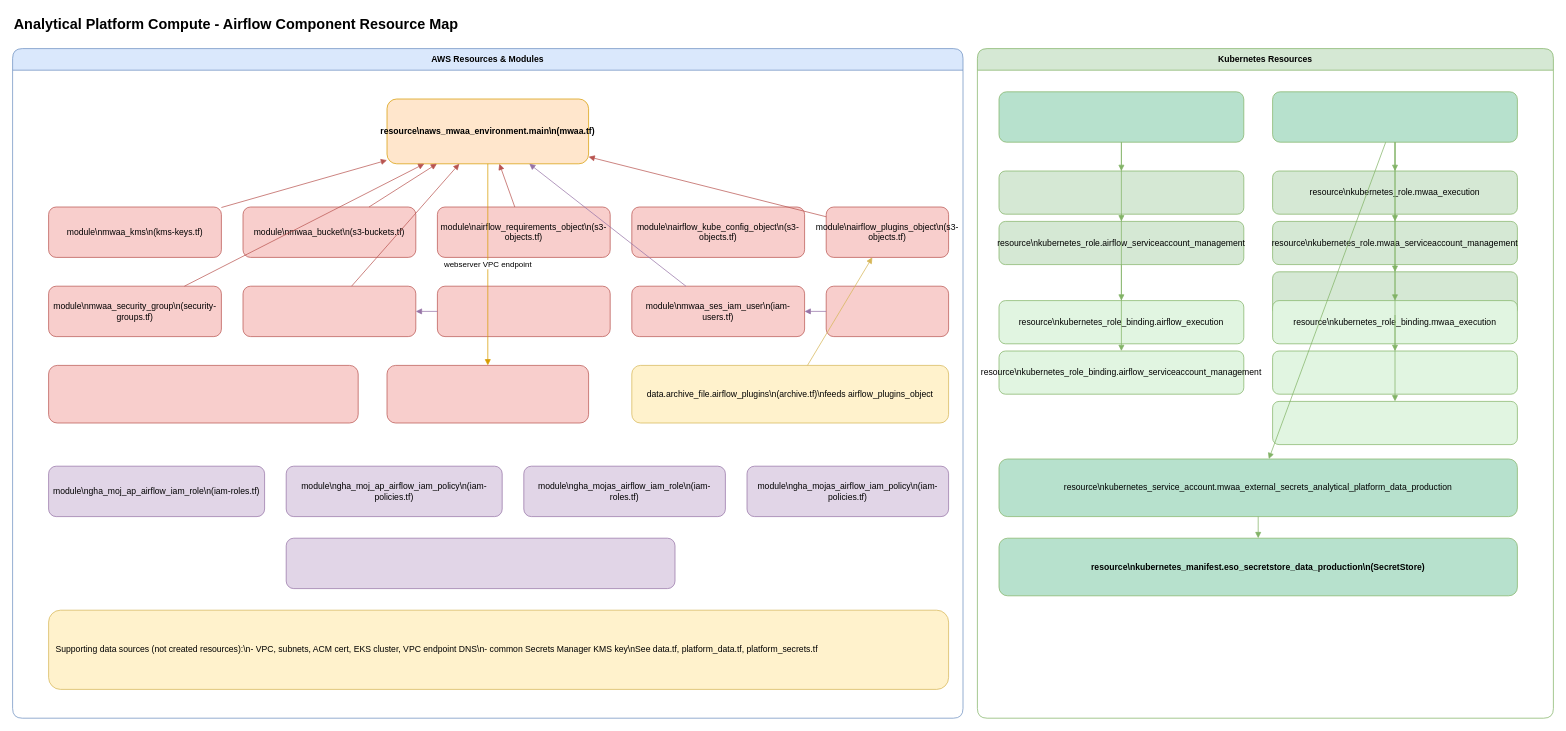
This 1566x731 diagram has some shape labels left out. Here are the shapes that lost their labels. From the top down, the box of each, then its label:
(998, 91, 1244, 142): resource\nkubernetes_namespace.airflow\n(kubernetes-namespace.tf)
(1272, 91, 1517, 142): resource\nkubernetes_namespace.mwaa\n(kubernetes-namespace.tf)
(998, 170, 1244, 214): resource\nkubernetes_role.airflow_execution
(242, 285, 416, 337): module\nmwaa_execution_iam_role\n(iam-roles.tf)
(437, 285, 610, 337): module\nmwaa_execution_iam_policy\n(iam-policies.tf)
(825, 285, 949, 337): module\nmwaa_ses_policy\n(iam-policies.tf)
(1272, 271, 1517, 315): resource\nkubernetes_role.mwaa_external_secrets
(1272, 350, 1517, 394): resource\nkubernetes_role_binding.mwaa_serviceaccount_management
(48, 365, 358, 423): module\nairflow_connections_slack_api_default_secret\n(secrets.tf)
(386, 365, 589, 423): module\nmwaa_alb\n(alb.tf)
(1272, 401, 1517, 445): resource\nkubernetes_role_binding.mwaa_external_secrets
(285, 537, 675, 589): module\ncreate_airflow_token_iam_policy\n(iam-policies.tf)
